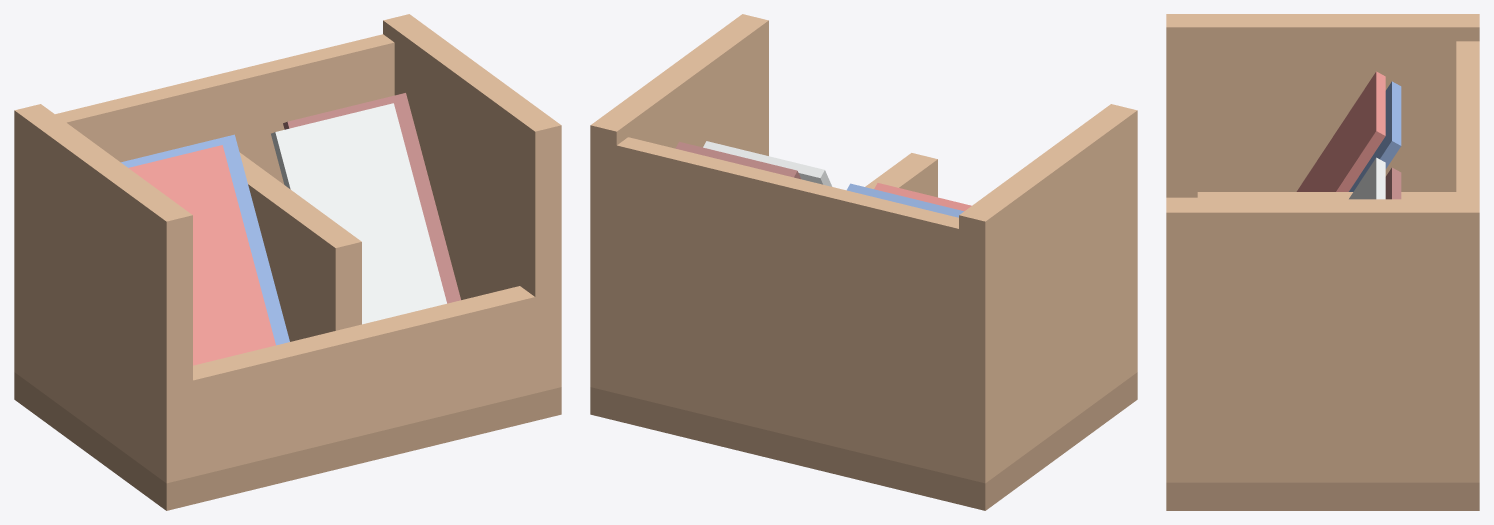
The model's file is magazineRack.glb.
3 renders of one model, left to right at view 1: azimuth 30°, elevation 25°; view 2: azimuth 150°, elevation 25°; view 3: azimuth 270°, elevation 25°, orthographic. The views are drawn at different scales.
Visible parts, largest first — view 1: magazineRack; view 2: magazineRack; view 3: magazineRack.
Part boxes in pixels (x1,y1,x2,y2): magazineRack: [14, 14, 561, 510]; magazineRack: [590, 14, 1137, 510]; magazineRack: [1166, 14, 1479, 510].
Bounding box in the file's own units: 0.3 × 0.21 × 0.2.
